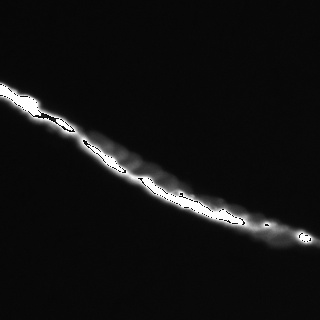embryo: (150, 171, 180, 196), (163, 177, 195, 200), (85, 131, 116, 154), (127, 162, 164, 181), (197, 195, 229, 216), (268, 225, 298, 247), (251, 219, 281, 240), (102, 140, 131, 161), (237, 213, 269, 232), (221, 204, 250, 224), (117, 152, 143, 170)
